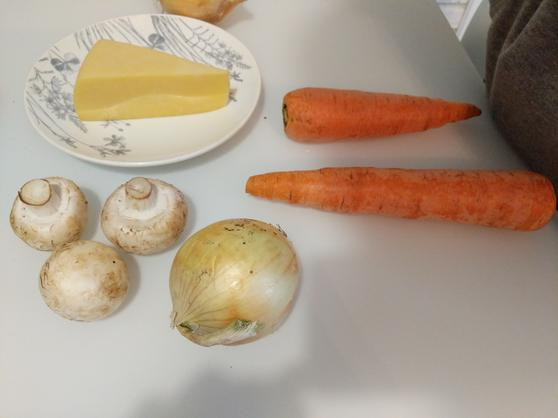carrot: (245, 161, 556, 231), (280, 87, 483, 139)
champignon: (40, 242, 130, 323), (100, 177, 187, 256), (9, 176, 87, 250)
cheese: (71, 37, 231, 120)
onion: (167, 216, 301, 348)
